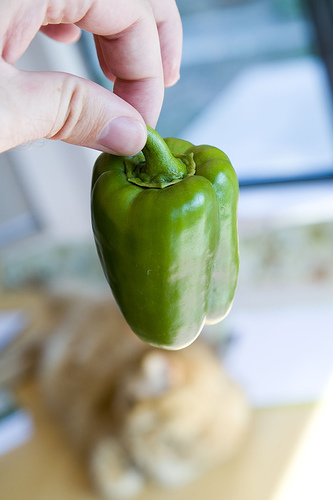capsicum: (88, 136, 239, 351)
